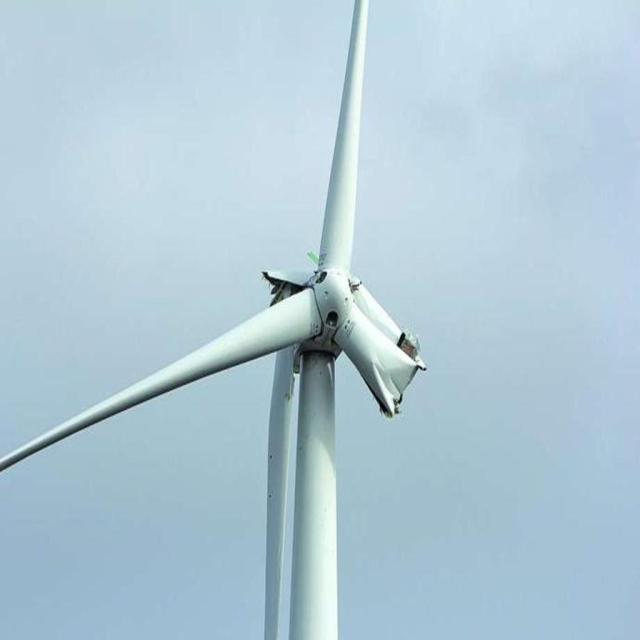crack: (244, 258, 430, 434)
